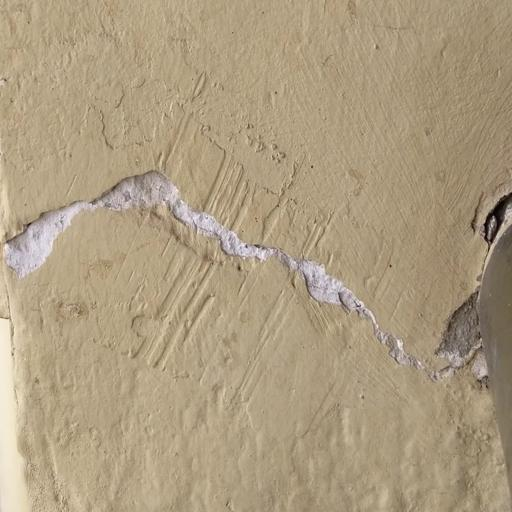peeling: (12, 142, 512, 416)
